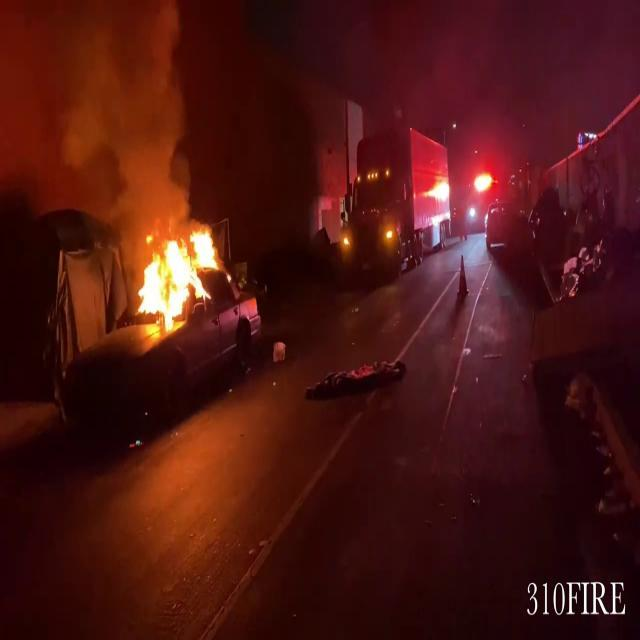Fire: (131, 222, 223, 332)
Smoke: (0, 0, 201, 220)
